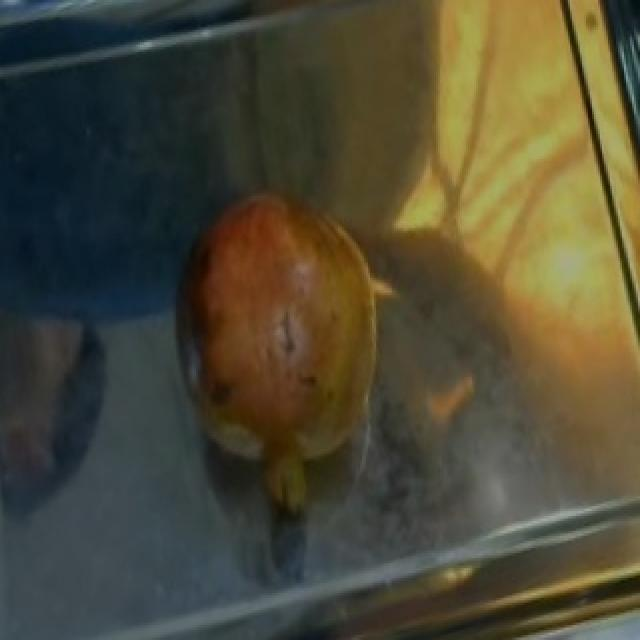fruit: (156, 166, 412, 417)
